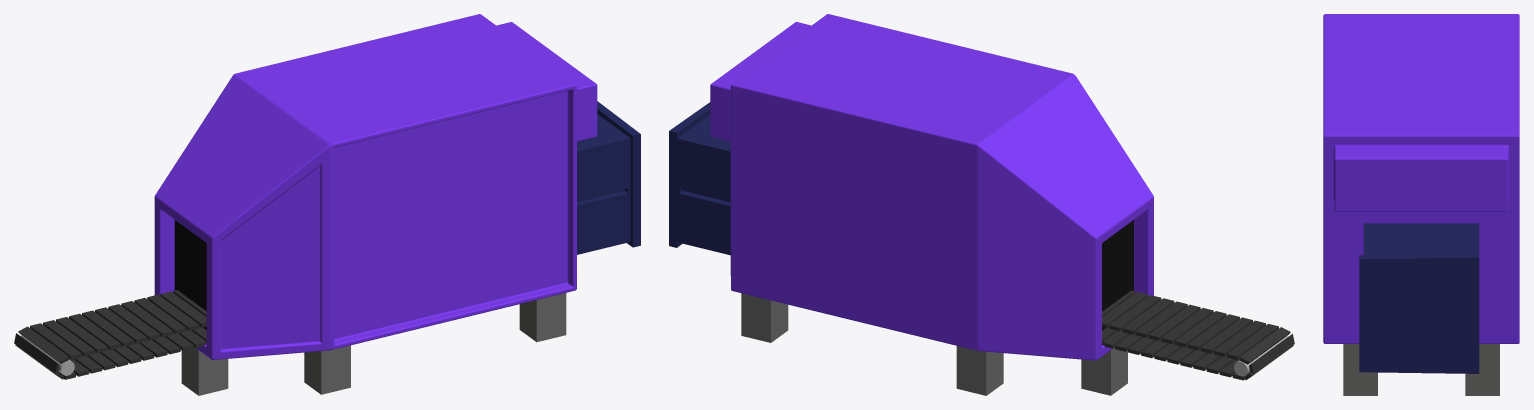
File: block builder.fbx
3 views of the same model, side by side, from view 1: azimuth 30°, elevation 25°; view 2: azimuth 150°, elevation 25°; view 3: azimuth 270°, elevation 25° (orthographic).
Visible parts, largest first — view 1: Cube, Cube.001, Cube.007, Plane, Cube.006, Cube.005, Cube.003; view 2: Cube, Cube.001, Cube.007, Plane, Cube.002, Cube.004, Cube.003; view 3: Cube, Cube.007, Cube.004, Cube.005.
Part boxes in pixels (x1,y1,x2,y2): Cube: (154, 14, 597, 359); Cube.001: (14, 290, 206, 379); Cube.007: (577, 101, 640, 254); Plane: (174, 220, 206, 329); Cube.006: (304, 345, 350, 394); Cube.005: (519, 293, 566, 342); Cube.003: (181, 347, 228, 395); Cube: (710, 14, 1153, 360); Cube.001: (1102, 290, 1294, 380); Cube.007: (669, 102, 730, 255); Plane: (1102, 220, 1133, 330); Cube.002: (956, 346, 1003, 395); Cube.004: (741, 293, 788, 342); Cube.003: (1081, 347, 1127, 395); Cube: (1323, 14, 1519, 343); Cube.007: (1359, 223, 1479, 373); Cube.004: (1465, 344, 1499, 395); Cube.005: (1343, 344, 1377, 395).
Size of the model in its own units: 1164 by 498 by 340.
